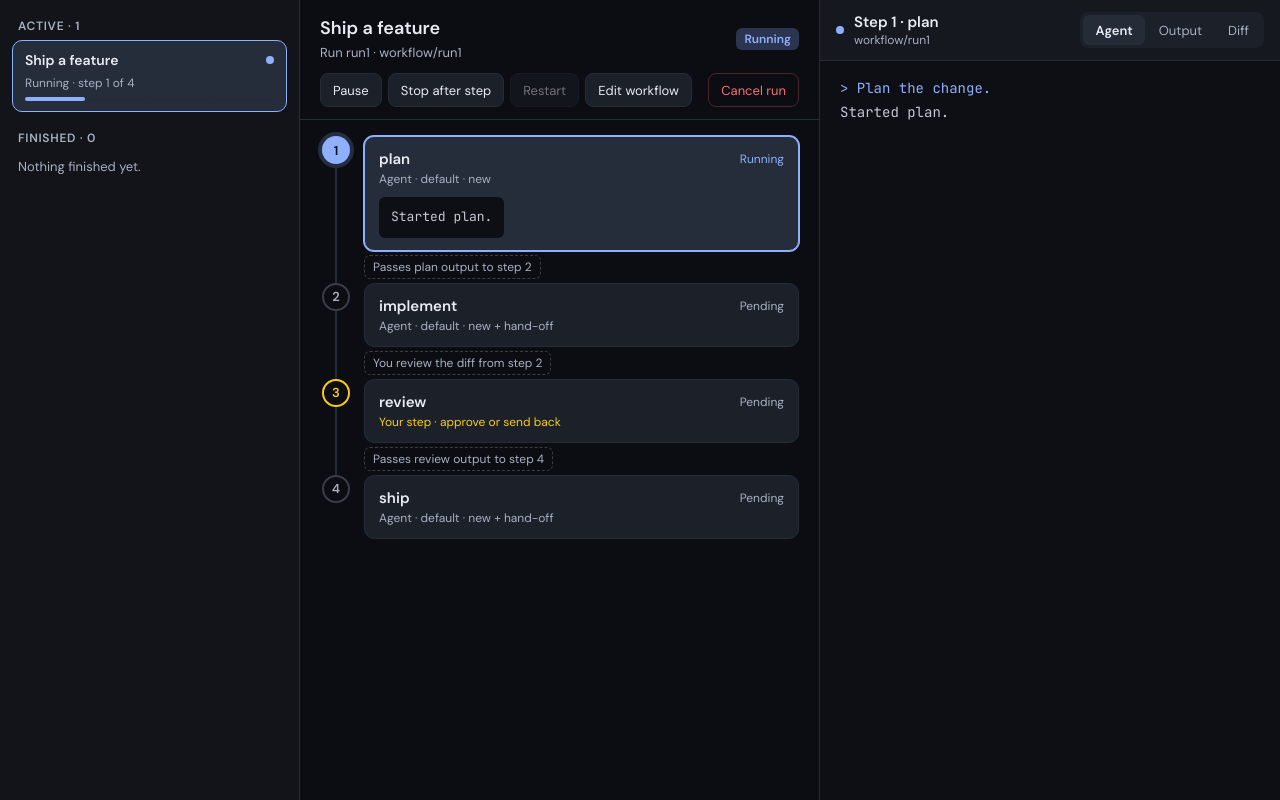
Test: WorkflowsTab run detail › keeps one row expanded at a time with aria-expanded
Expected: the list with test id "step-rail" is shown, x1=320 y1=136 x2=799 y2=539
Click the button with aria-label "plan, Running": (395,159) x1=365 y1=137 x2=798 y2=250
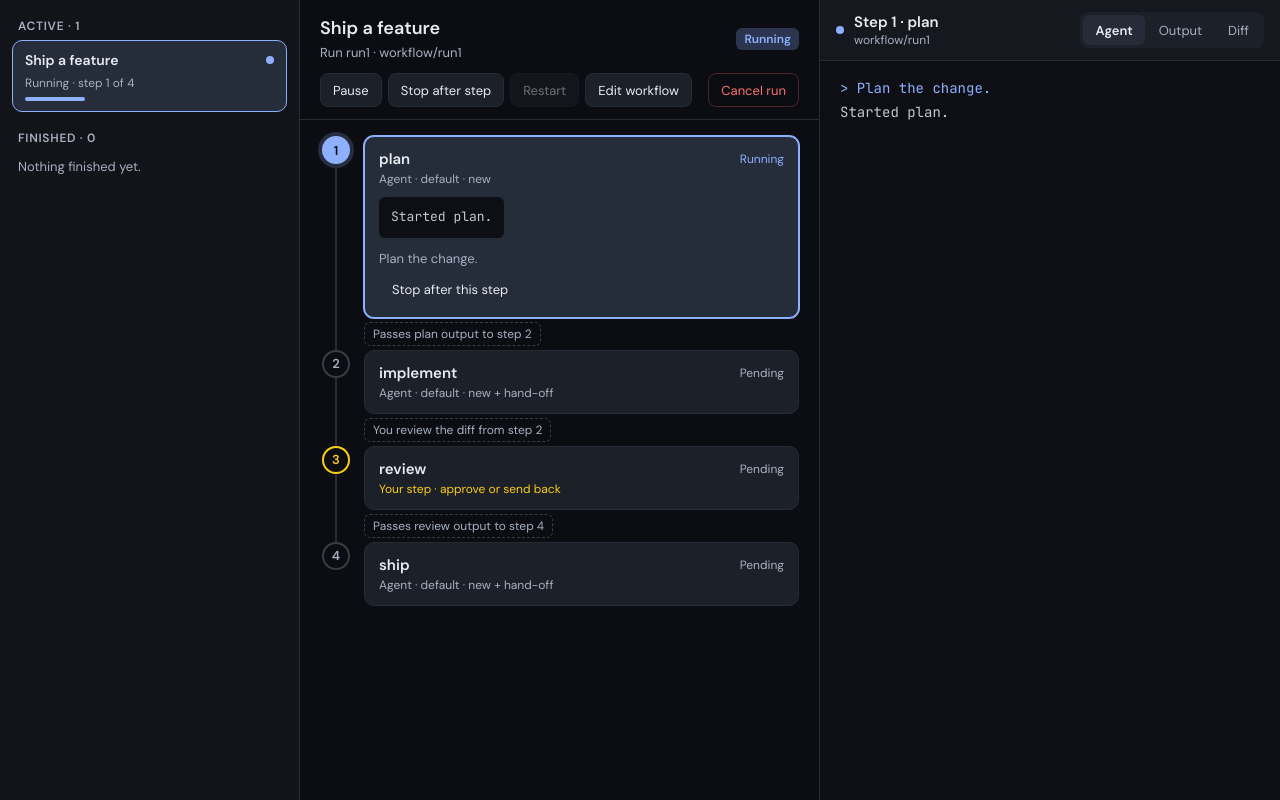
Click the button with aria-label "implement, Pending": (418,373) x1=365 y1=351 x2=798 y2=413
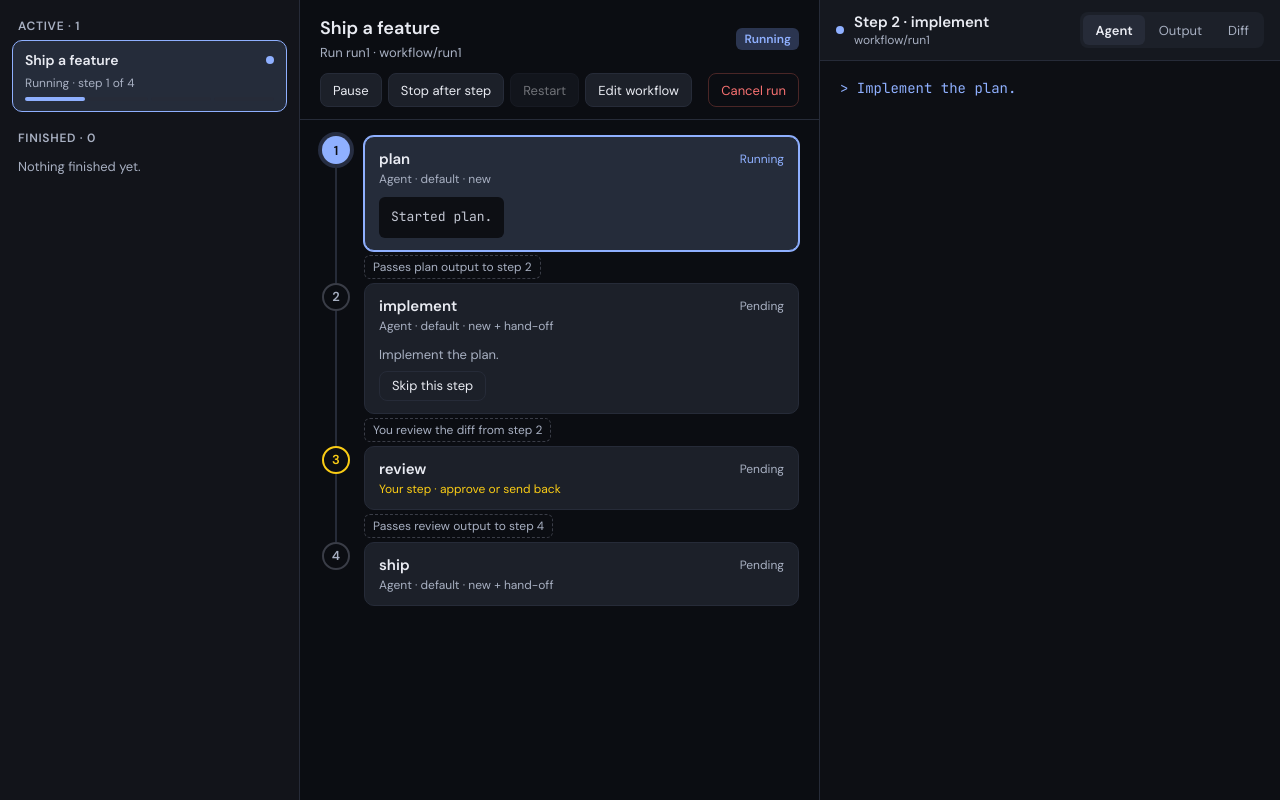
Now the button with aria-label "implement, Pending" is expanded, box x1=365 y1=284 x2=798 y2=346
